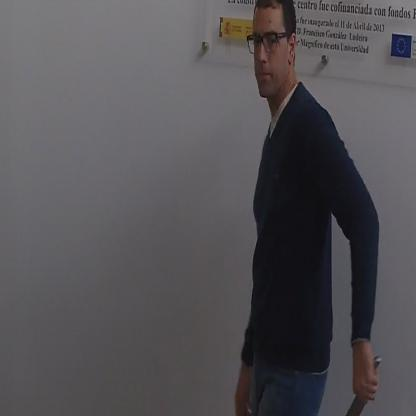knife: (334, 351, 384, 415)
